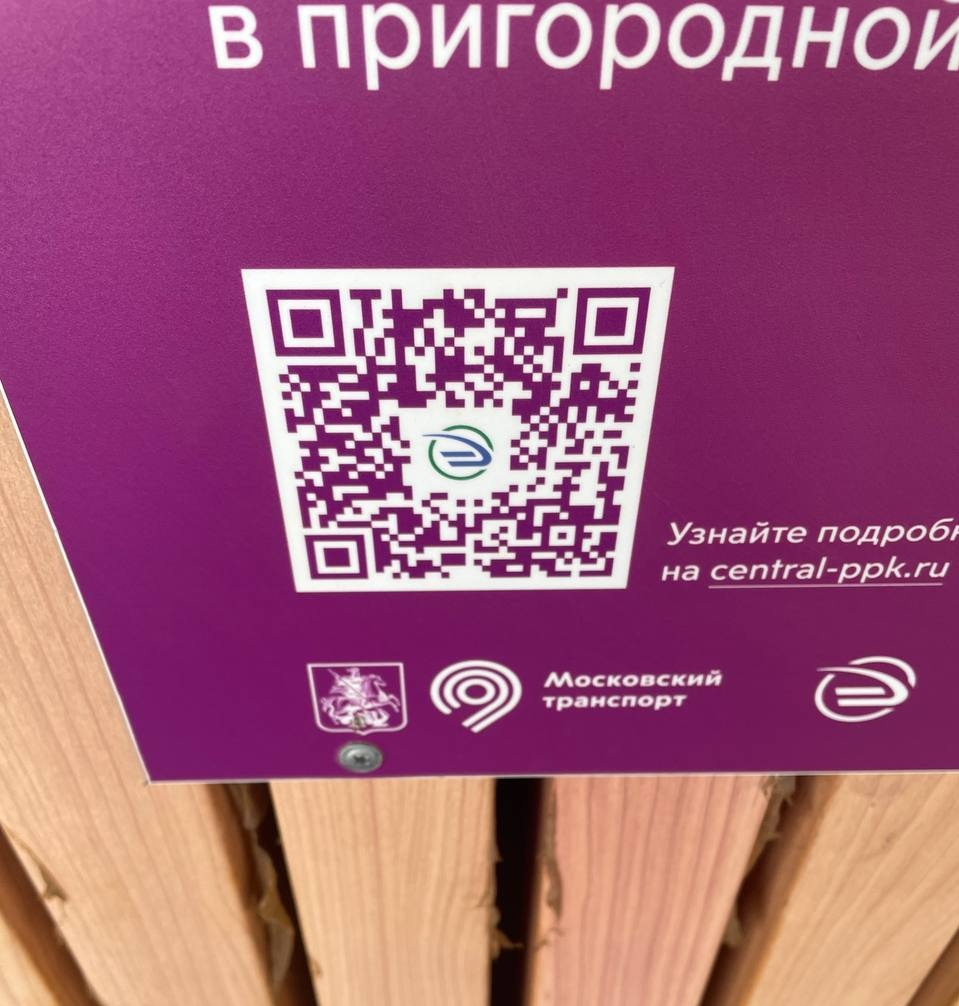2d: (265, 285, 655, 582)
